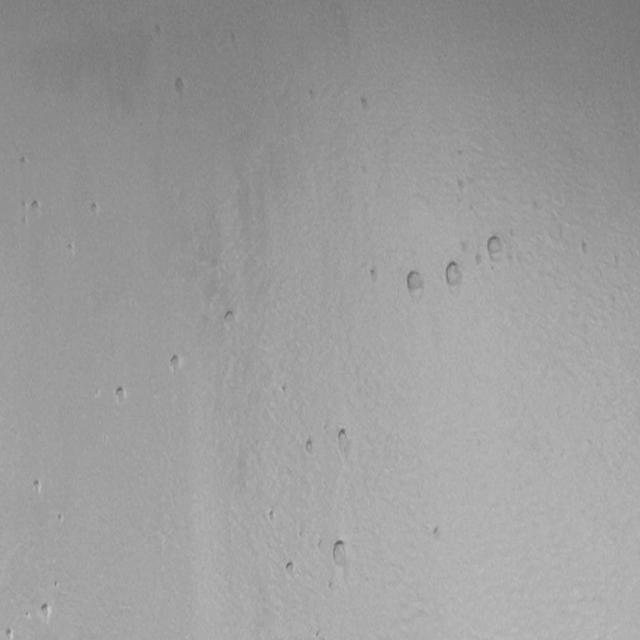pin holes: (481, 232, 508, 270), (441, 258, 465, 291), (403, 269, 427, 300), (328, 538, 350, 569), (332, 426, 352, 450), (171, 73, 189, 99), (166, 352, 185, 376), (365, 263, 383, 286), (358, 92, 376, 114), (576, 237, 592, 260), (223, 307, 240, 328), (40, 602, 56, 624), (114, 385, 130, 407), (28, 198, 44, 219), (303, 437, 318, 458), (266, 505, 281, 525), (285, 560, 299, 580), (30, 478, 44, 497), (315, 537, 326, 561), (18, 153, 33, 170), (453, 174, 464, 196), (88, 200, 101, 218), (432, 522, 445, 540), (64, 240, 76, 258), (327, 580, 340, 596), (278, 381, 290, 396), (458, 239, 468, 257), (55, 512, 66, 527), (4, 625, 15, 639), (53, 578, 63, 592), (22, 611, 32, 623)
